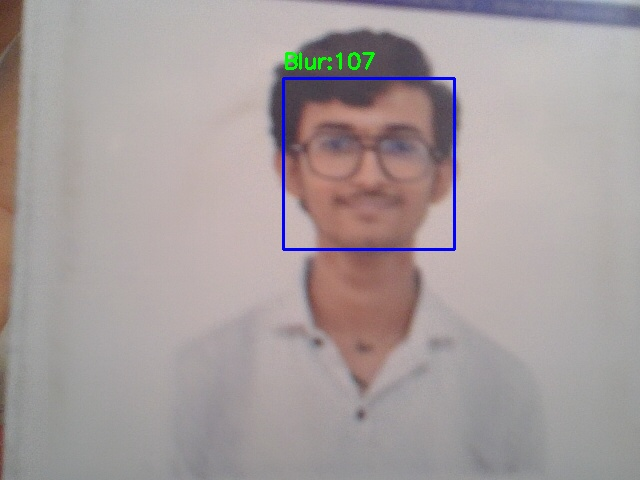fake: (283, 78, 454, 249)
